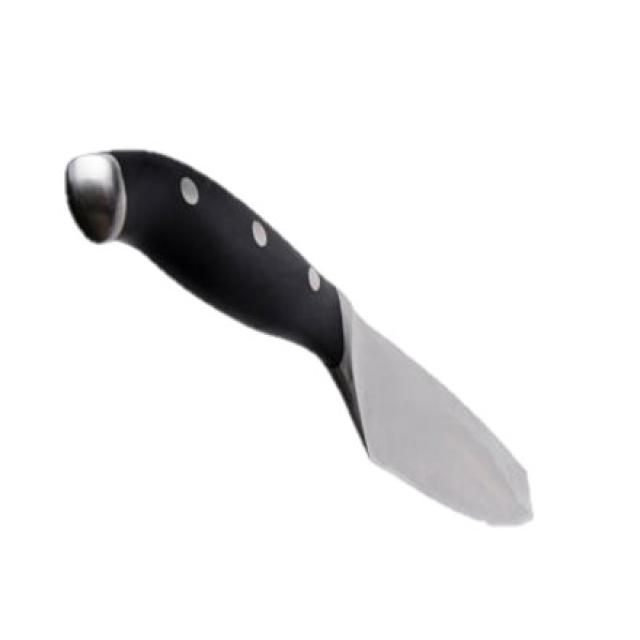knife: (62, 141, 543, 532)
